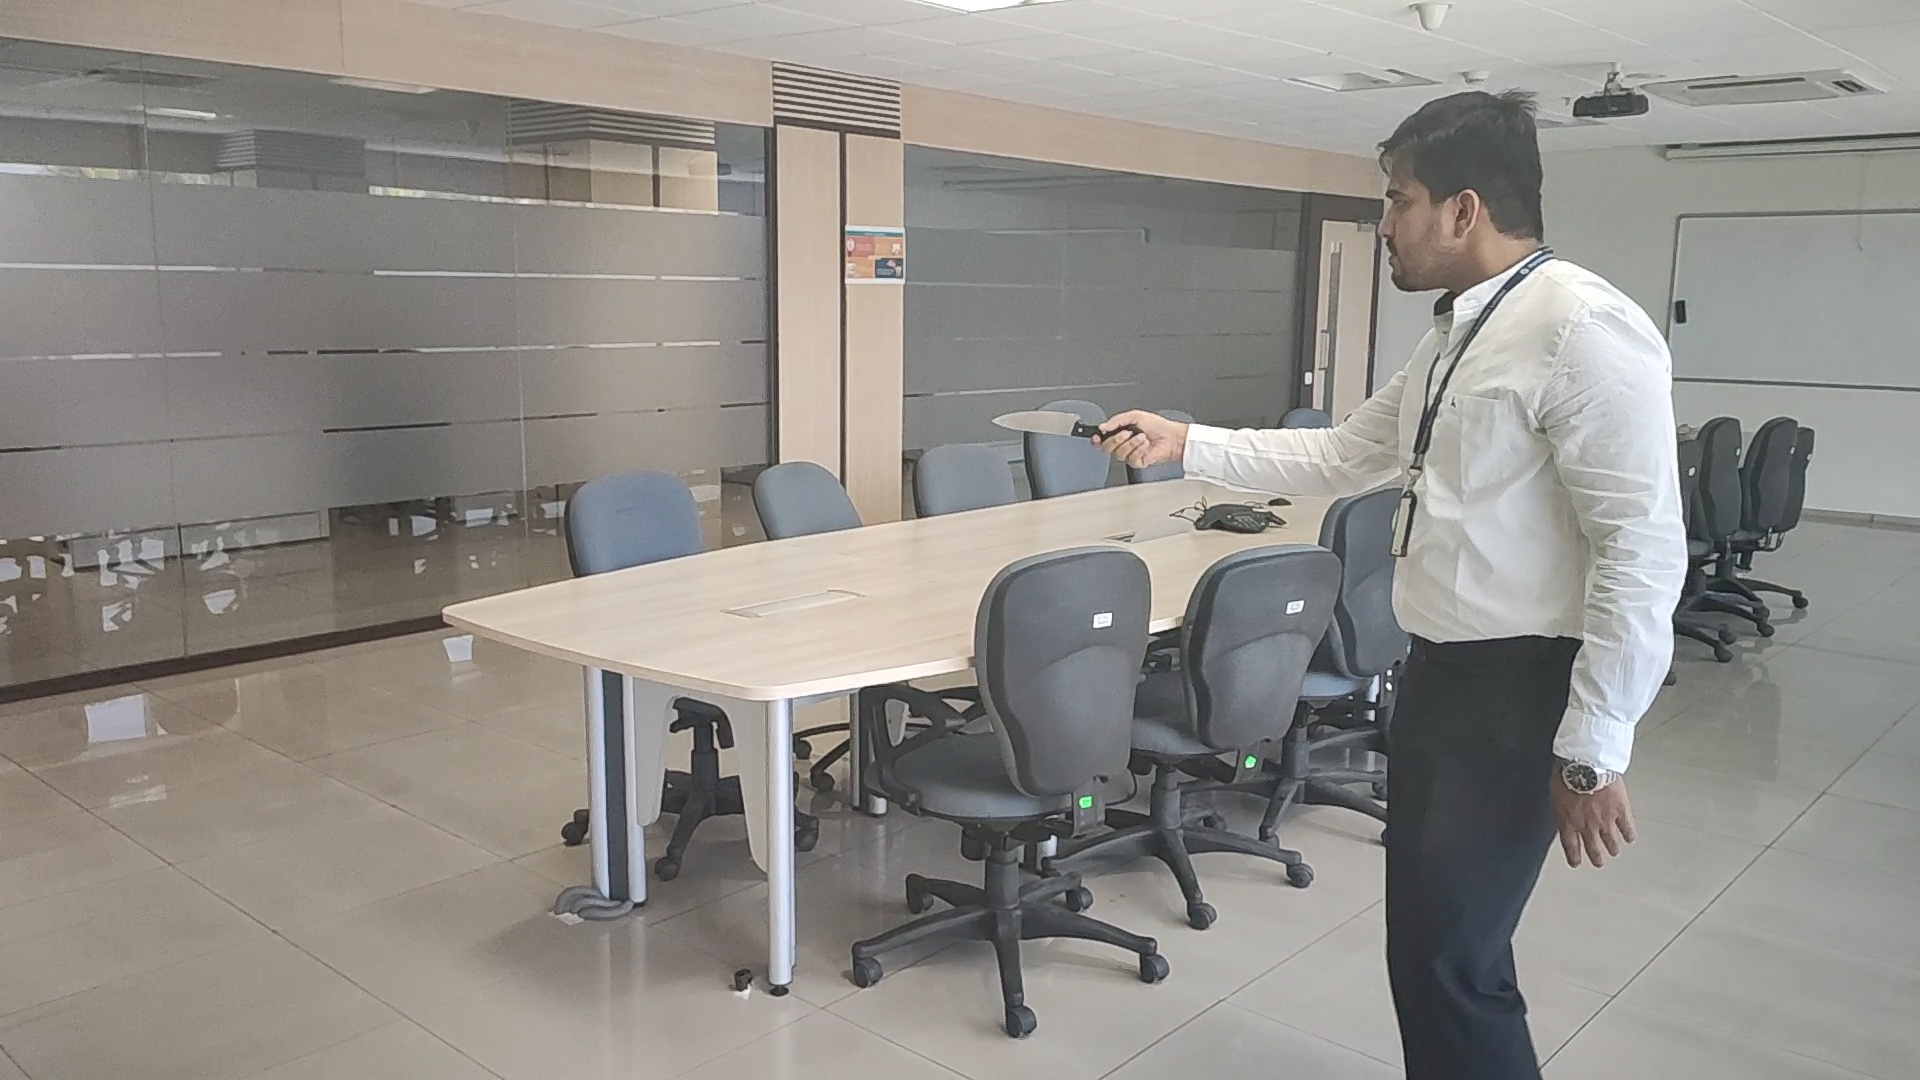knife: (990, 410, 1112, 442)
